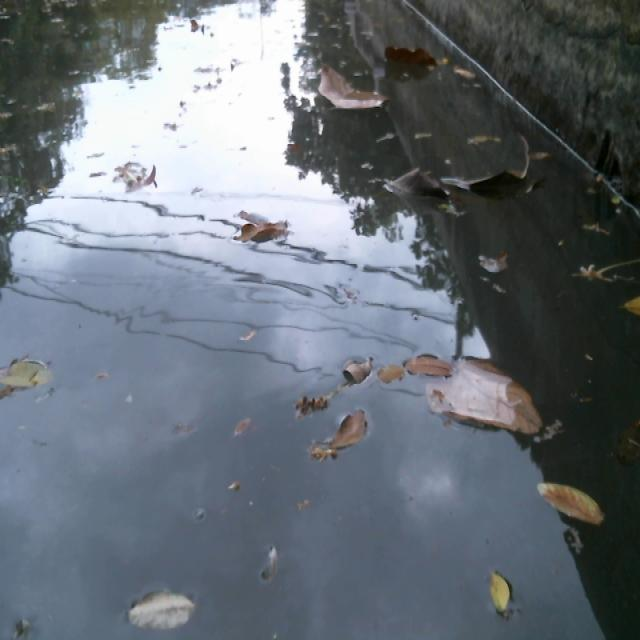Big-leaf: (435, 349, 543, 448), (442, 148, 542, 202), (313, 62, 390, 118), (378, 150, 439, 211), (386, 36, 453, 76)
Small-leaf: (535, 475, 608, 529), (0, 342, 55, 405), (575, 240, 640, 290), (128, 589, 205, 631), (312, 410, 376, 454), (232, 209, 291, 252), (108, 158, 167, 196), (485, 564, 522, 617), (402, 347, 452, 378), (468, 248, 513, 278), (336, 355, 373, 390), (260, 544, 284, 587), (375, 357, 404, 390), (294, 390, 335, 413), (229, 412, 254, 443), (620, 289, 640, 321), (187, 17, 215, 38), (222, 472, 243, 498)
